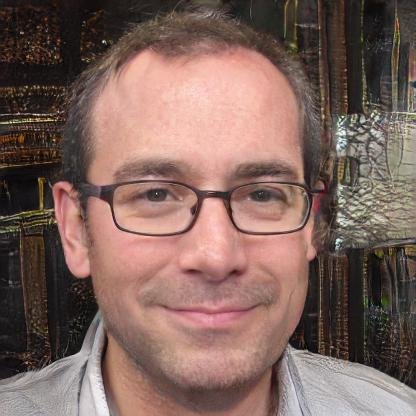glasses: (92, 171, 315, 244)
